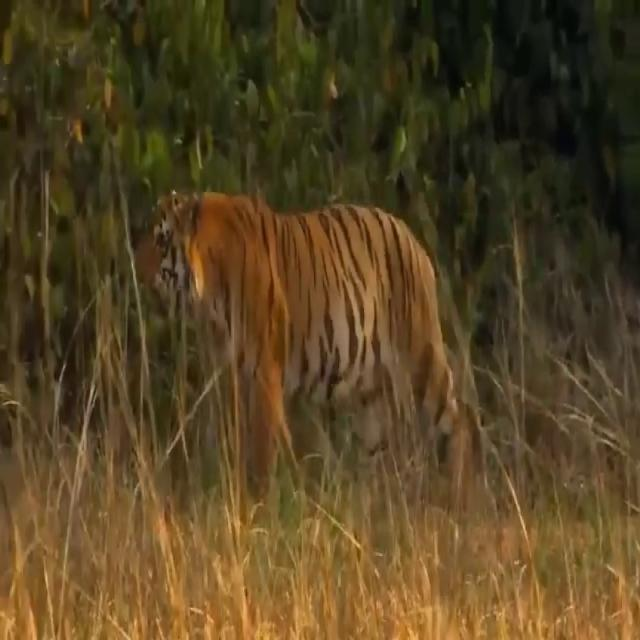tiger: (135, 187, 458, 529)
